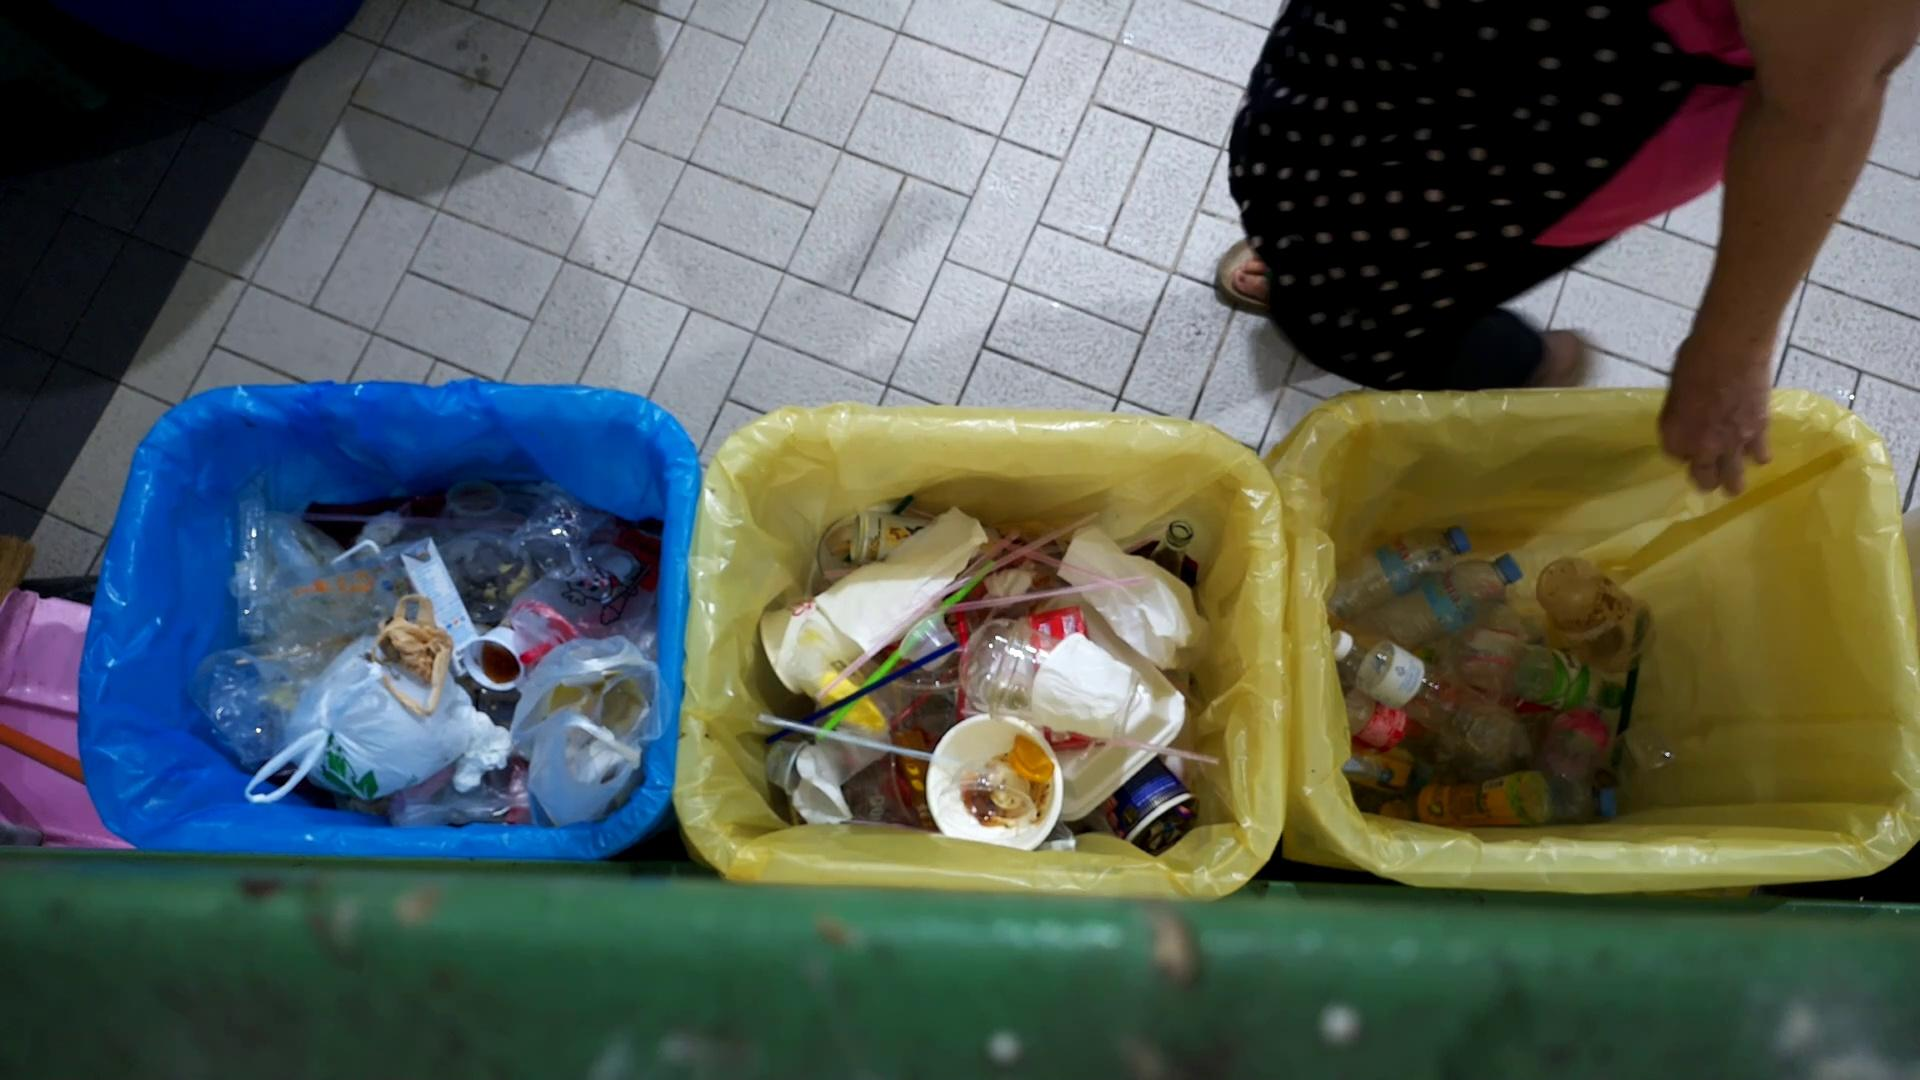filled plastic bag: (240, 634, 479, 810), (513, 634, 661, 827)
food container: (928, 713, 1062, 851), (462, 626, 525, 691)
milk carton: (377, 535, 480, 663)
plastic cup: (953, 615, 1145, 752), (935, 756, 1033, 832)
straw: (816, 521, 1015, 709), (814, 559, 994, 742), (758, 640, 960, 748), (980, 538, 1149, 591), (1017, 715, 1226, 756), (942, 575, 1149, 609)
tissue paper: (1029, 630, 1138, 738), (450, 704, 513, 795)
